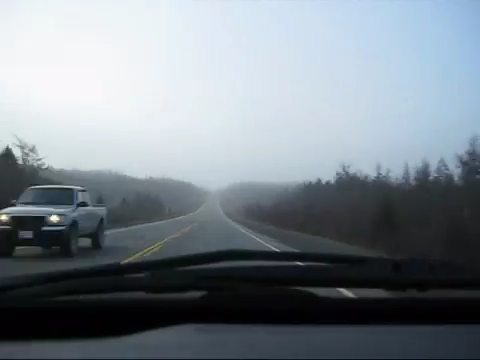car: (1, 182, 109, 258)
